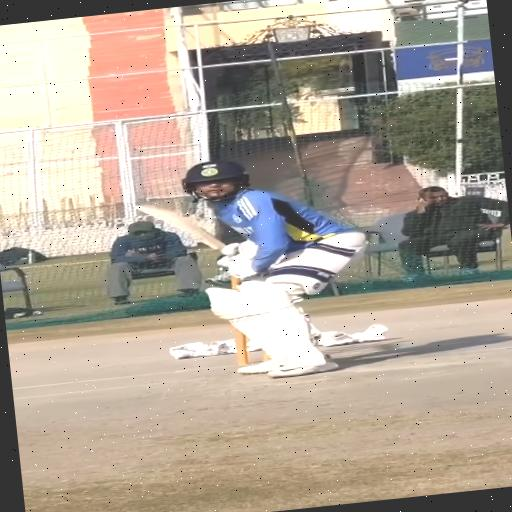Cricket bat: (136, 205, 225, 250)
